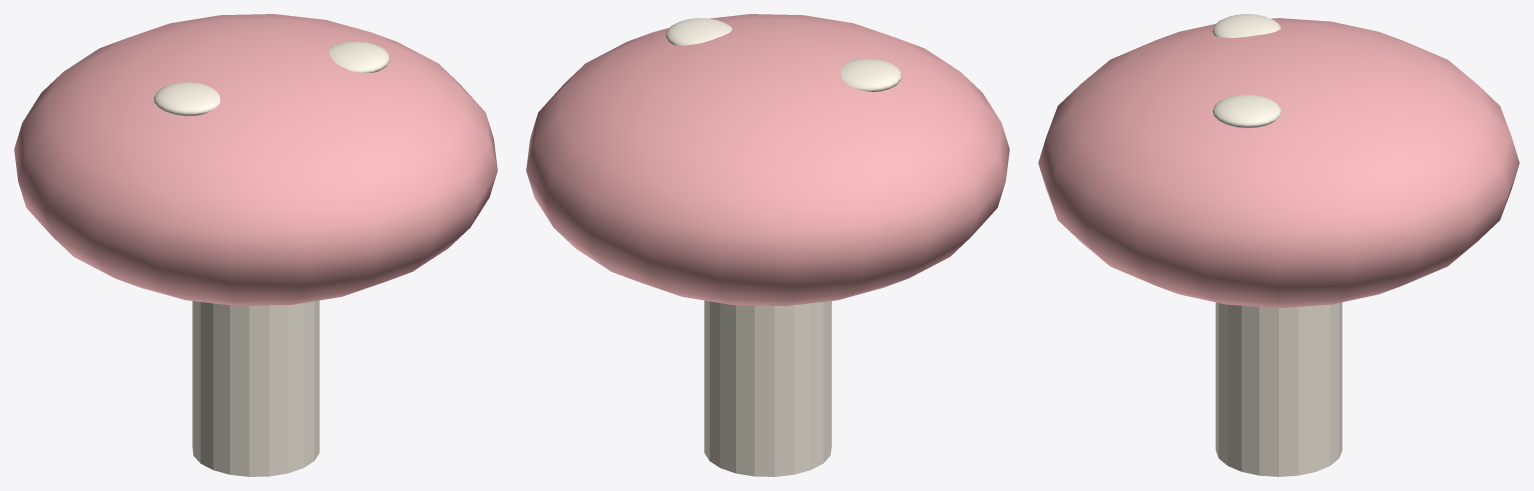
Rendered from mushroom.glb.
The picture shows the model from 3 angles, left to right: view 1: azimuth 30°, elevation 25°; view 2: azimuth 150°, elevation 25°; view 3: azimuth 270°, elevation 25°; orthographic projection.
Visible parts, largest first — view 1: cap, stem, spot-0.15, spot0.15; view 2: cap, stem, spot-0.15, spot0.15; view 3: cap, stem, spot0.15, spot-0.15.
Part boxes in pixels (left/top/right/bottom): cap: left=14, top=14, right=497, bottom=306; stem: left=192, top=300, right=319, bottom=476; spot-0.15: left=154, top=82, right=220, bottom=116; spot0.15: left=328, top=41, right=389, bottom=73; cap: left=526, top=14, right=1009, bottom=306; stem: left=704, top=300, right=831, bottom=476; spot-0.15: left=840, top=58, right=901, bottom=91; spot0.15: left=666, top=18, right=732, bottom=45; cap: left=1038, top=18, right=1519, bottom=307; stem: left=1215, top=302, right=1342, bottom=476; spot0.15: left=1212, top=94, right=1280, bottom=128; spot-0.15: left=1212, top=14, right=1280, bottom=37.
Bounding box in the file's own units: 0.76 × 0.68 × 0.76.
